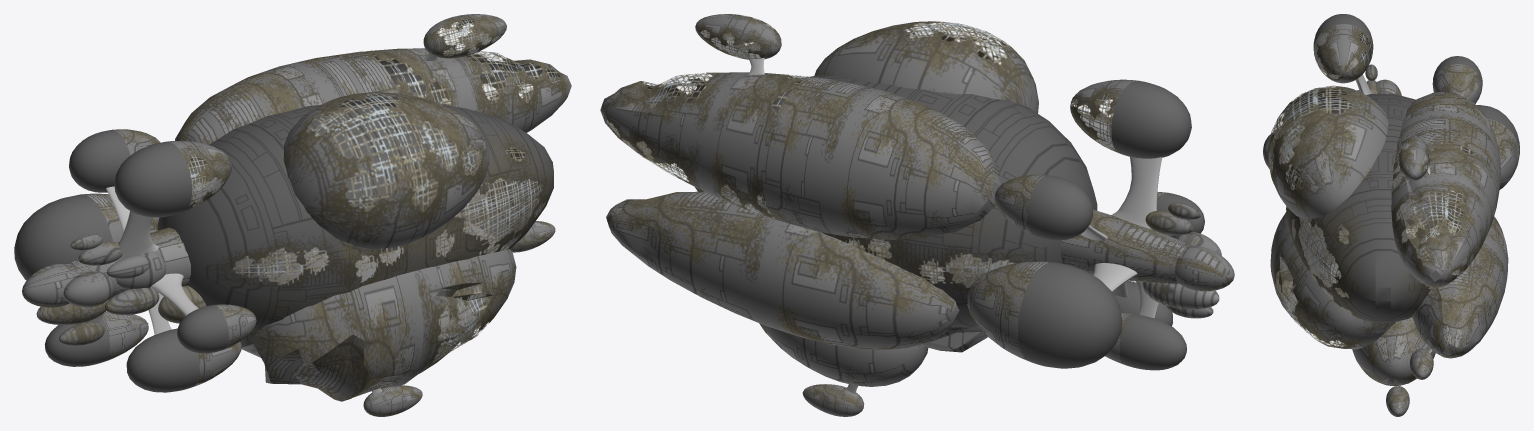
File: steltek.glb
3 renders of one model, left to right at view 1: azimuth 30°, elevation 25°; view 2: azimuth 150°, elevation 25°; view 3: azimuth 270°, elevation 25°, orthographic. The views are drawn at different scales.
Visible parts, largest first — view 1: derelict_raw; view 2: derelict_raw; view 3: derelict_raw.
Part boxes in pixels (x1=…): derelict_raw: x1=14, y1=14, x2=571, y2=416; derelict_raw: x1=600, y1=14, x2=1234, y2=416; derelict_raw: x1=1263, y1=14, x2=1519, y2=416.
Bounding box in the file's own units: 498 × 306 × 237.
7 materials, 4 textured.
